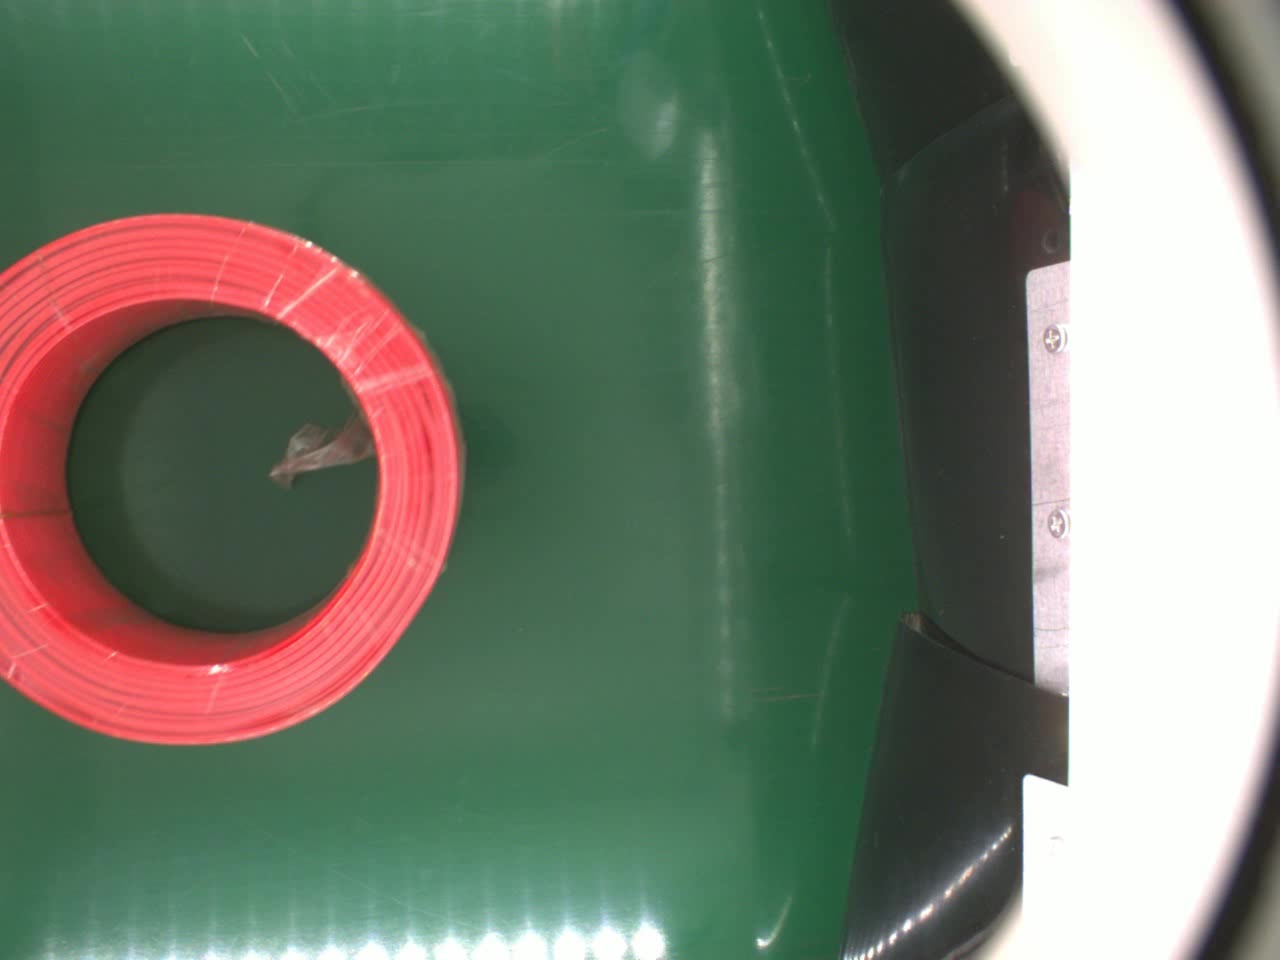red: (0, 213, 460, 747)
